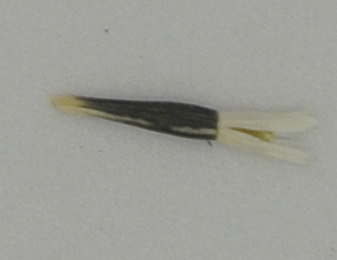เมล็ดดีติดกัน: (49, 91, 321, 169)
